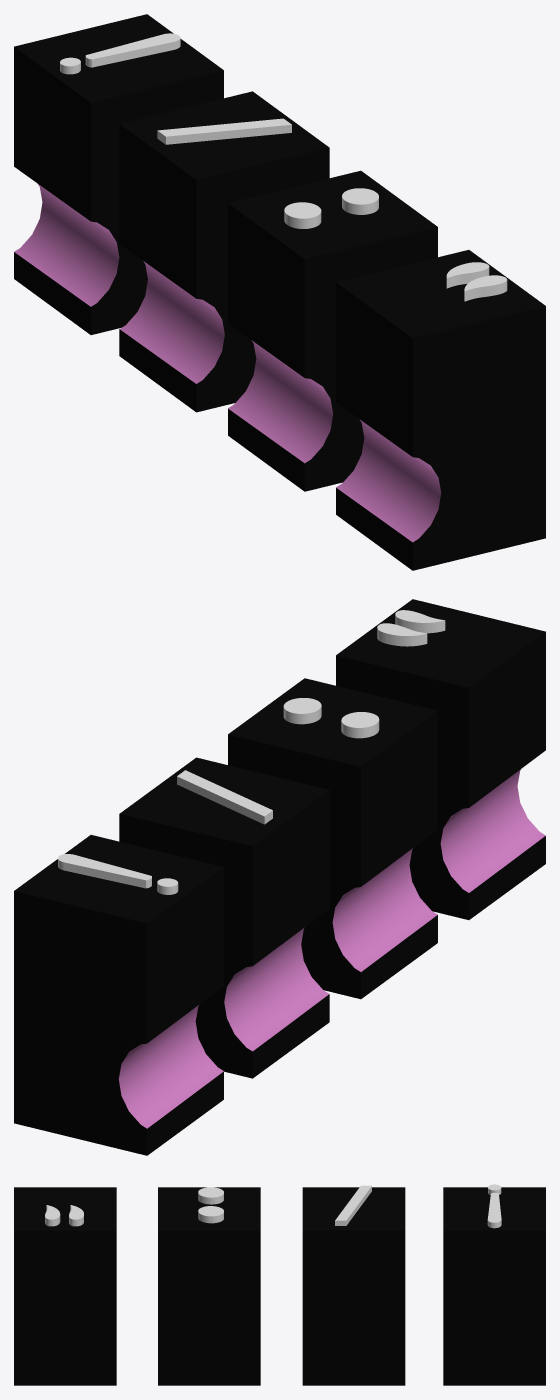
File: NewPunctuation.fbx
3 renders of one model, top to bottom at view 1: azimuth 30°, elevation 25°; view 2: azimuth 150°, elevation 25°; view 3: azimuth 270°, elevation 25°, orthographic. The views are drawn at different scales.
Parts seen in each view (by area): view 1: NewPunctuationWord009 (×2), NewPunctuationWord007 (×2), NewPunctuationWord008 (×2), NewPunctuationWord006, NewPunctuationText006; view 2: NewPunctuationWord006, NewPunctuationWord008 (×2), NewPunctuationWord009 (×2), NewPunctuationWord007 (×2), NewPunctuationText006; view 3: NewPunctuationWord007 (×2), NewPunctuationWord008 (×2), NewPunctuationWord009 (×2), NewPunctuationWord006, NewPunctuationText006.
Part boxes in pixels (bbox=[...]): NewPunctuationWord009 (×2): bbox=[336, 250, 545, 570]; NewPunctuationWord007 (×2): bbox=[119, 91, 329, 412]; NewPunctuationWord008 (×2): bbox=[228, 170, 437, 491]; NewPunctuationWord006: bbox=[14, 14, 223, 334]; NewPunctuationText006: bbox=[60, 33, 180, 74]; NewPunctuationWord006: bbox=[14, 835, 223, 1155]; NewPunctuationWord008 (×2): bbox=[228, 678, 437, 999]; NewPunctuationWord009 (×2): bbox=[336, 599, 545, 919]; NewPunctuationWord007 (×2): bbox=[119, 757, 329, 1078]; NewPunctuationText006: bbox=[58, 854, 178, 894]; NewPunctuationWord007 (×2): bbox=[302, 1185, 405, 1385]; NewPunctuationWord008 (×2): bbox=[158, 1187, 260, 1385]; NewPunctuationWord009 (×2): bbox=[14, 1187, 116, 1385]; NewPunctuationWord006: bbox=[443, 1187, 545, 1385]; NewPunctuationText006: bbox=[487, 1184, 501, 1228].
Size of the model in its own units: 3.86 by 6.72 by 20.
